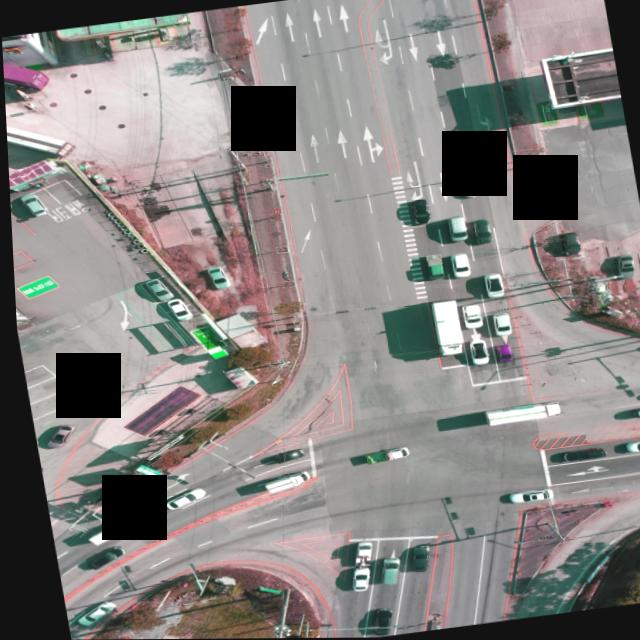car: (75, 545, 122, 573), (155, 485, 200, 509), (65, 600, 110, 624), (250, 448, 298, 467), (357, 607, 385, 637), (63, 390, 96, 414), (35, 425, 68, 449), (550, 449, 599, 465), (16, 189, 46, 215), (399, 544, 425, 572), (500, 489, 544, 505), (371, 557, 396, 585), (139, 276, 167, 301), (162, 296, 188, 321), (442, 216, 466, 243), (340, 565, 364, 591), (477, 270, 501, 295), (453, 304, 476, 330), (467, 218, 490, 244), (202, 267, 226, 291), (461, 339, 483, 365), (445, 252, 467, 278), (405, 198, 427, 224), (556, 231, 578, 256), (487, 312, 508, 336), (611, 255, 631, 277), (457, 179, 476, 199), (491, 342, 509, 362), (619, 438, 640, 454), (631, 406, 640, 418)
medium_truck: (4, 108, 73, 160), (473, 399, 555, 426), (423, 299, 460, 358)
small_truck: (78, 515, 134, 545), (257, 472, 306, 495), (358, 447, 405, 464), (419, 253, 441, 279), (346, 541, 368, 564)
